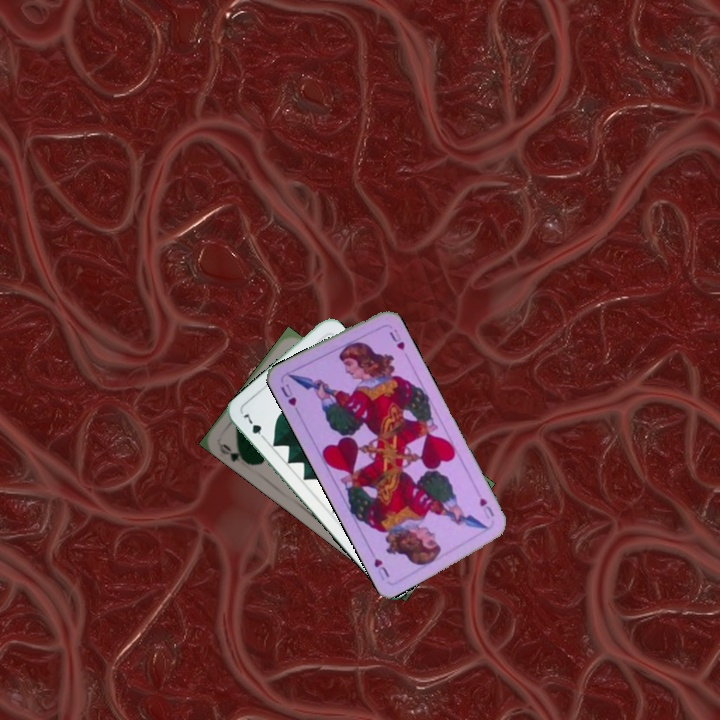G7: (239, 408, 269, 444)
GO: (215, 440, 253, 467)
HU: (276, 380, 302, 416), (475, 493, 497, 522)
